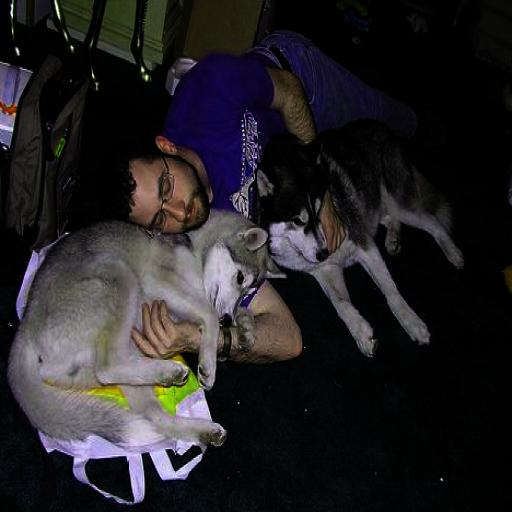dog_face: (259, 162, 334, 268)
